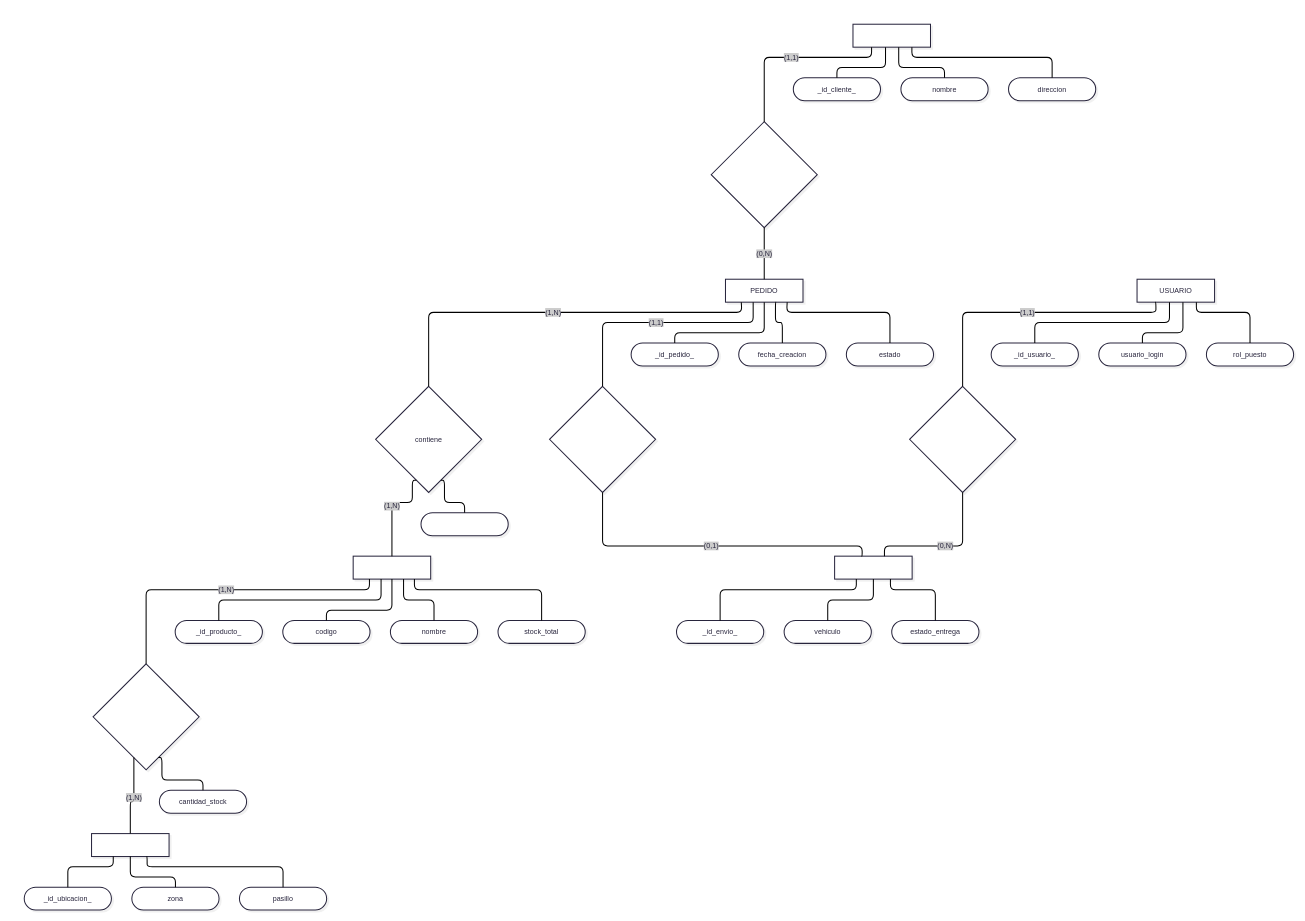
The diagram is 1305 pixels wide and 921 high, and some of its shapes have lost their labels. The centre of each missing label's shape, as x and y in pixels:
almacenado en: point (146, 717)
cantidad_producto: point (465, 525)
CLIENTE: point (892, 36)
ENVIO: point (874, 568)
PRODUCTO: point (392, 568)
realiza: point (765, 175)
reparte: point (963, 440)
se asigna a: point (603, 440)
UBICACION: point (131, 846)
